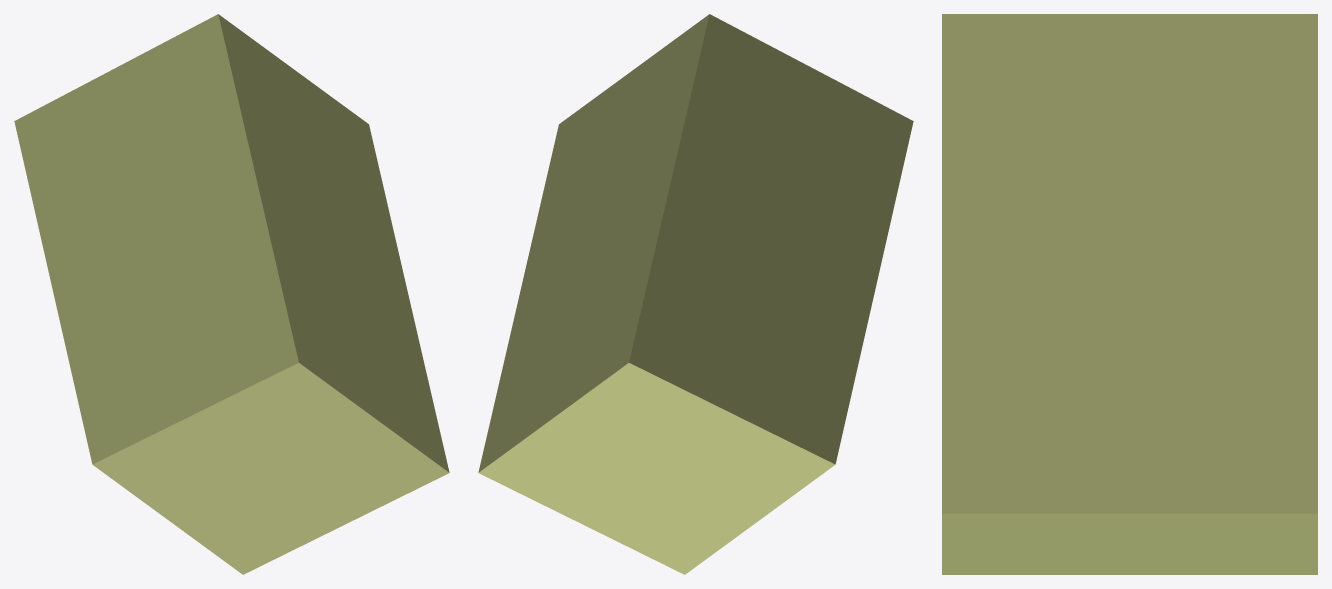
3 views of the same model, side by side, from view 1: azimuth 30°, elevation 25°; view 2: azimuth 150°, elevation 25°; view 3: azimuth 270°, elevation 25° (orthographic). The views are drawn at different scales.
Parts seen in each view (by area): view 1: 0_3_2_3_2_1_1_3_1_1; view 2: 0_3_2_3_2_1_1_3_1_1; view 3: 0_3_2_3_2_1_1_3_1_1.
Boxes of the visible parts, bbox=[...] form: 0_3_2_3_2_1_1_3_1_1: bbox=[14, 14, 449, 574]; 0_3_2_3_2_1_1_3_1_1: bbox=[478, 14, 913, 574]; 0_3_2_3_2_1_1_3_1_1: bbox=[942, 14, 1317, 574].
Bounding box in the file's own units: 6.54 × 9.22 × 6.
